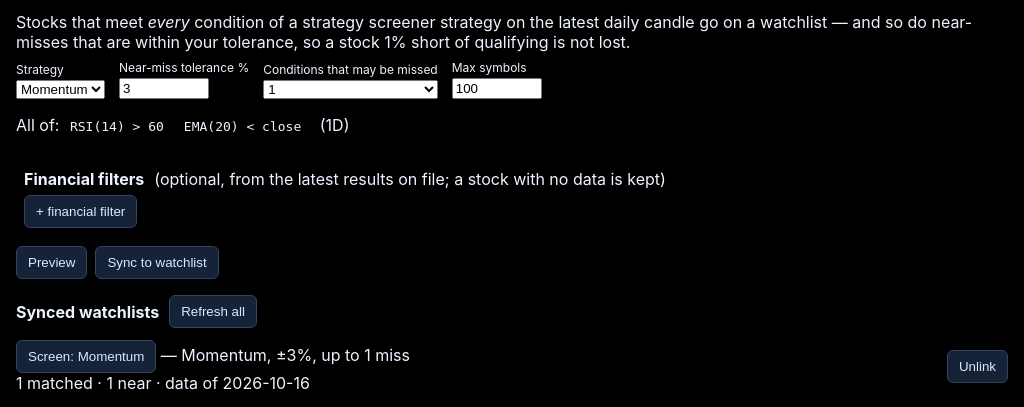
Scenario: StrategiesView › unlinks a list (it stays as an ordinary watchlist)
Click the button "Unlink" at (978, 366), box [947,350,1008,383]
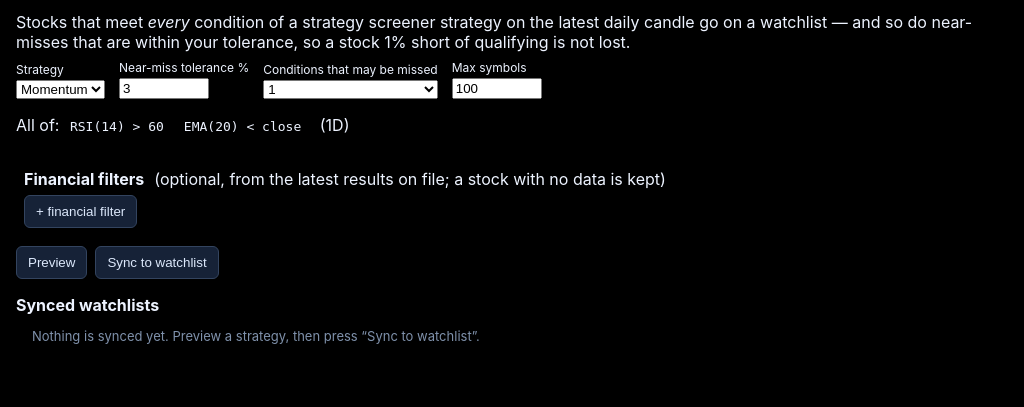
Check: the text "Nothing is synced yet" is shown, box [32,328,480,344]
